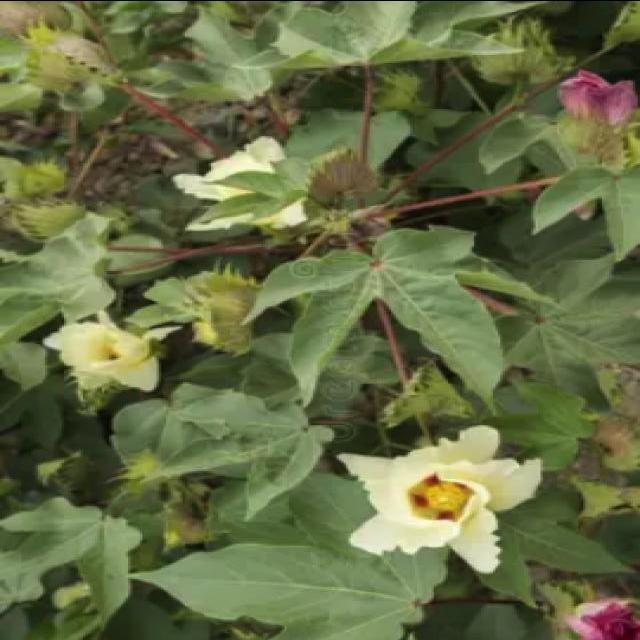Cotton Blossom: (336, 411, 546, 584), (42, 302, 164, 396), (538, 62, 640, 162), (541, 582, 640, 640)
Cotton Bud: (13, 11, 122, 100), (170, 262, 264, 354), (14, 190, 90, 246)
